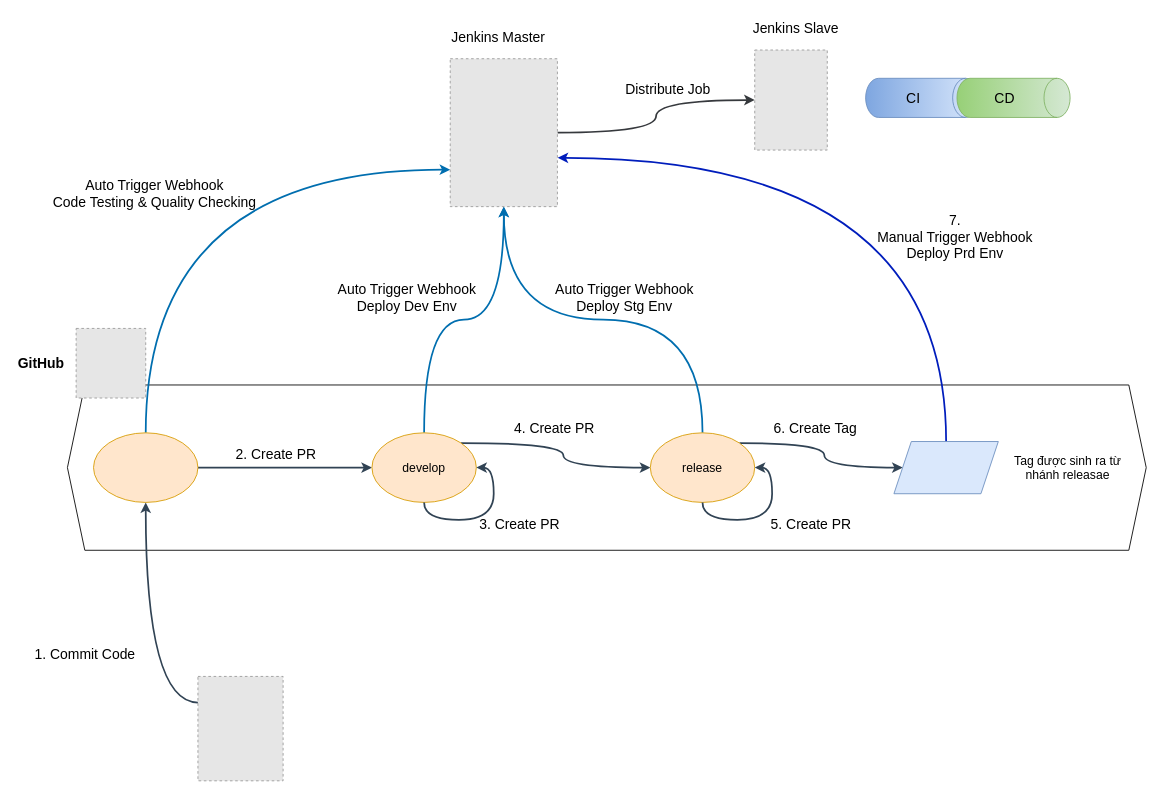
The diagram is 1161 pixels wide and 796 high, and some of its shapes have lost their labels. Grey dashed boxes stand in for pictures. Here are the shapes that lost their labels. From the top down, the centre of each, then its label:
the point at 145,467: feature-.*
the point at 945,467: tag
